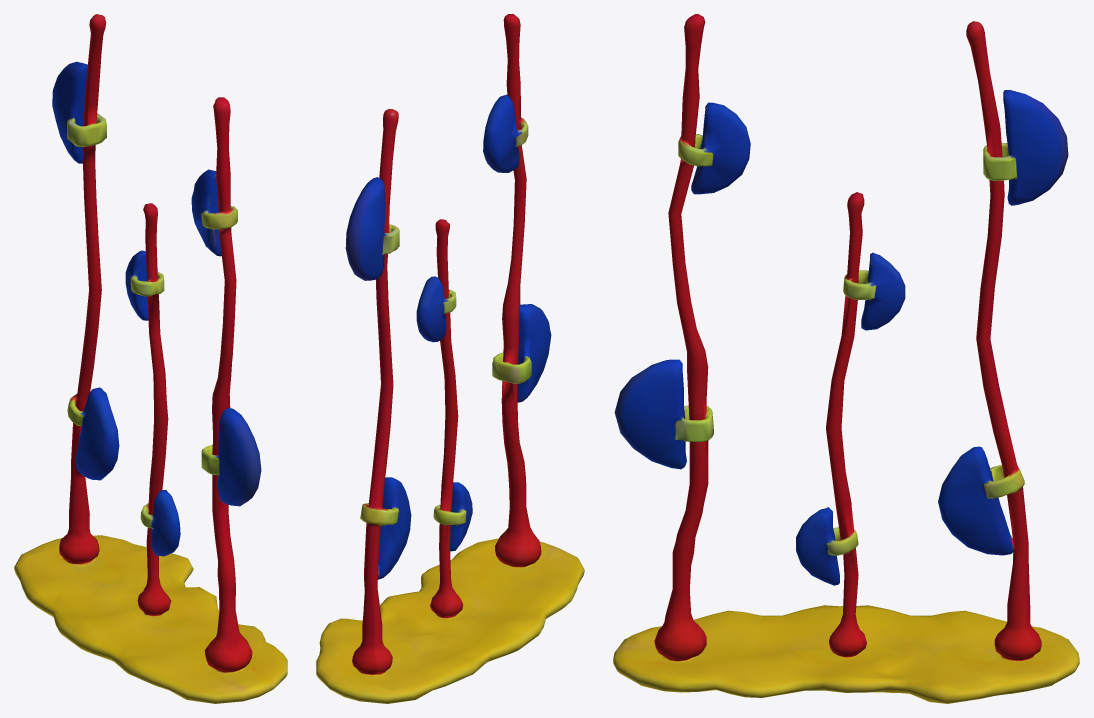
3 renders of one model, left to right at view 1: azimuth 30°, elevation 25°; view 2: azimuth 150°, elevation 25°; view 3: azimuth 270°, elevation 25°, orthographic. The views are drawn at different scales.
Visible parts, largest first — view 1: tripo_node_0dd7c211-0d44-44d3-8f66-8364c86fa630; view 2: tripo_node_0dd7c211-0d44-44d3-8f66-8364c86fa630; view 3: tripo_node_0dd7c211-0d44-44d3-8f66-8364c86fa630.
Part boxes in pixels (bbox=[...]): tripo_node_0dd7c211-0d44-44d3-8f66-8364c86fa630: bbox=[14, 14, 287, 703]; tripo_node_0dd7c211-0d44-44d3-8f66-8364c86fa630: bbox=[316, 14, 584, 703]; tripo_node_0dd7c211-0d44-44d3-8f66-8364c86fa630: bbox=[613, 14, 1079, 703].
Size of the model in its own units: 0.2975 by 1 by 0.6438.
1 material, 1 textured.
